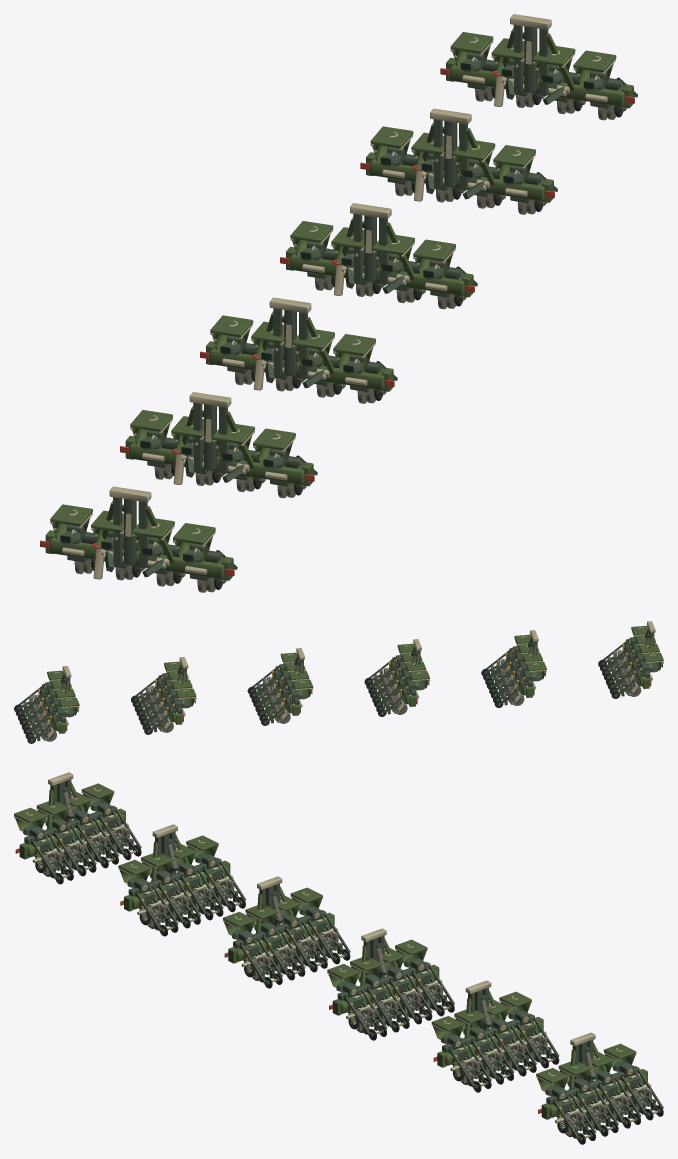
Rendered from audit-hf-seeder-compact-sow-side.glb.
3 renders of one model, top to bottom at view 1: azimuth 30°, elevation 25°; view 2: azimuth 150°, elevation 25°; view 3: azimuth 270°, elevation 25°, orthographic. The views are drawn at different scales.
Visible parts, largest first — view 1: toolbarBeam (×6); view 2: no part large enough to name; view 3: no part large enough to name.
Part boxes in pixels (<box>): toolbarBeam (×6): <box>49,64,625,578</box>.
Size of the model in its own units: 20 by 2.25 by 17.59.
